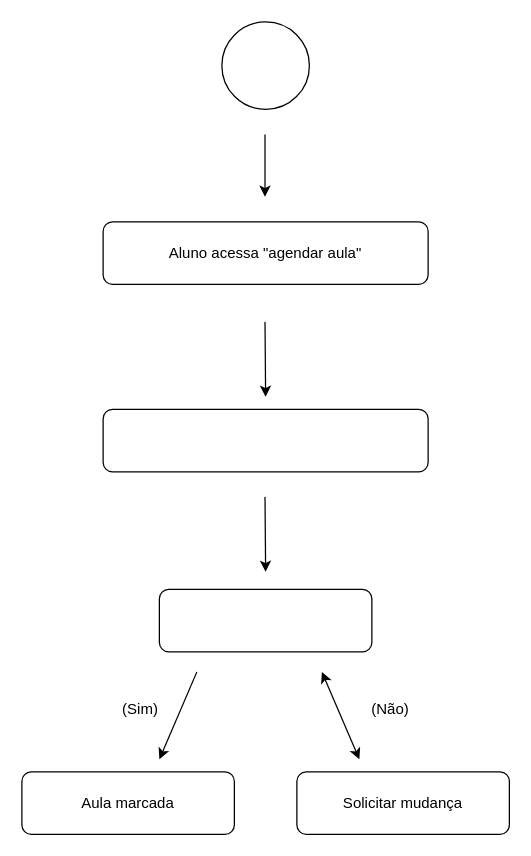
The diagram is 531 pixels wide and 856 high, and some of its shapes have lost their labels. Here are the shapes that lost their labels. From the top down, the centre of each, then its label:
(x=265, y=440): Aluno escolhe a aula e horário que deseja agendar
(x=265, y=620): Disponível?
